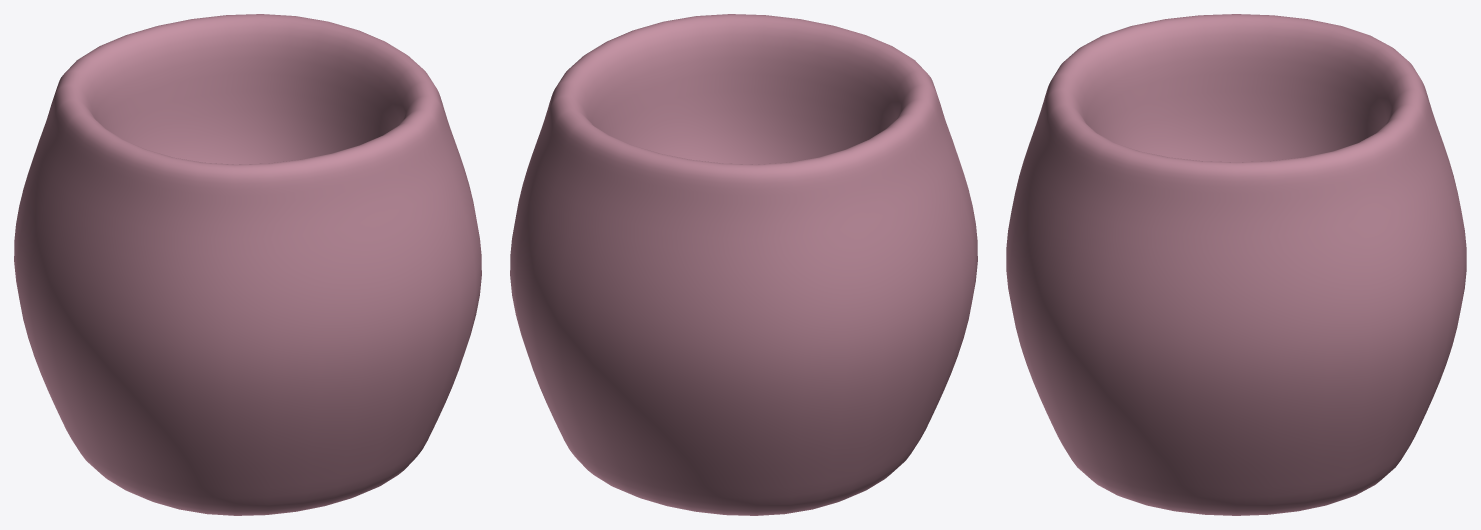
3 views of the same model, side by side, from view 1: azimuth 30°, elevation 25°; view 2: azimuth 150°, elevation 25°; view 3: azimuth 270°, elevation 25° (orthographic).
Parts seen in each view (by area): view 1: Cube; view 2: Cube; view 3: Cube.
Part boxes in pixels (x1,y1,x2,y2): Cube: (14, 14, 481, 515); Cube: (510, 14, 977, 515); Cube: (1006, 14, 1466, 515).
Size of the model in its own units: 31.43 by 28.21 by 31.43.
